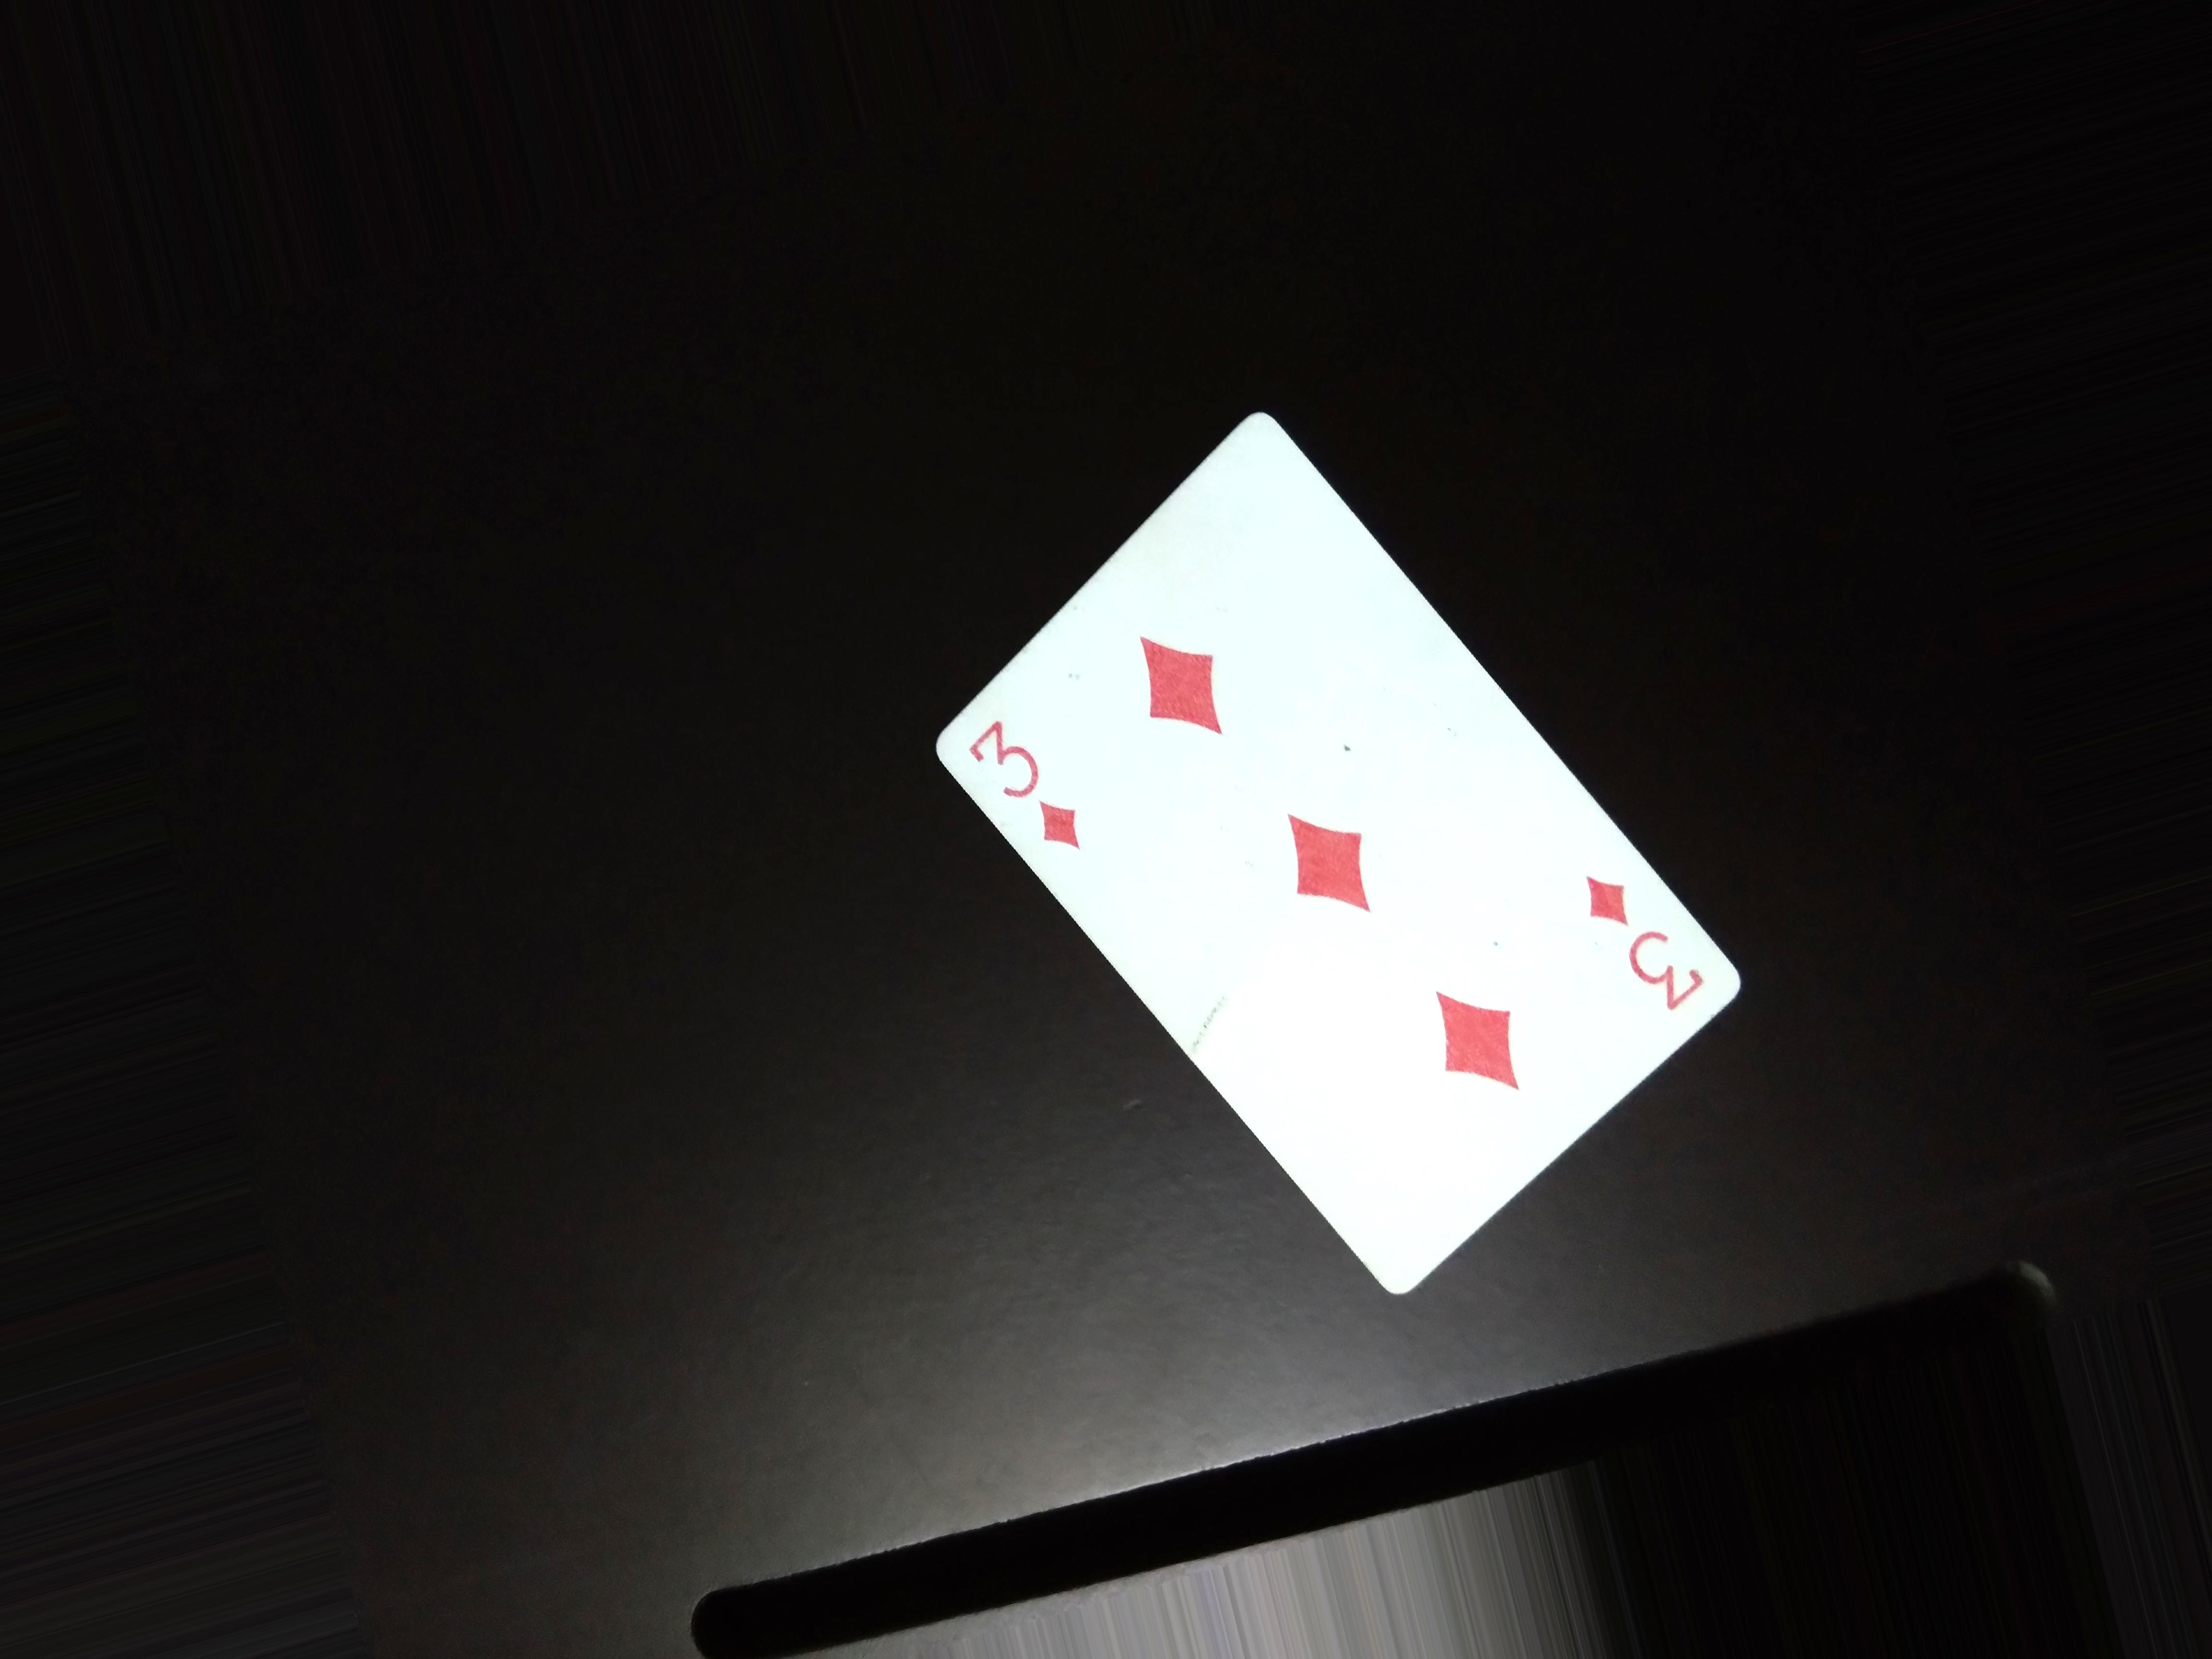3D: (960, 720, 1099, 870)
